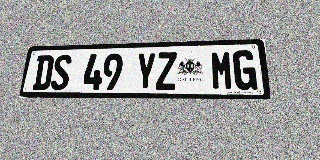4: (82, 54, 104, 90)
9: (102, 53, 123, 90)
D: (32, 55, 55, 90)
G: (232, 50, 258, 90)
M: (210, 51, 234, 90)
S: (50, 55, 72, 90)
Y: (135, 52, 156, 90)
Z: (156, 52, 177, 90)
